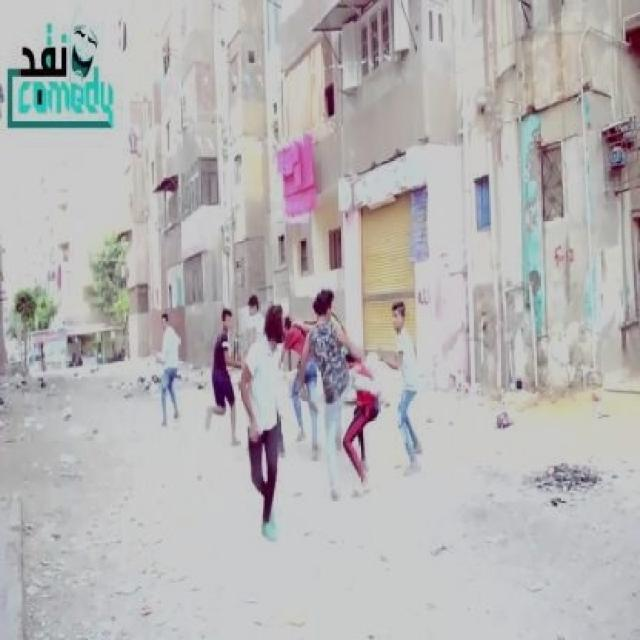fight: (289, 289, 432, 501)
non-fight: (237, 301, 290, 538), (192, 302, 238, 446), (144, 313, 186, 432)
